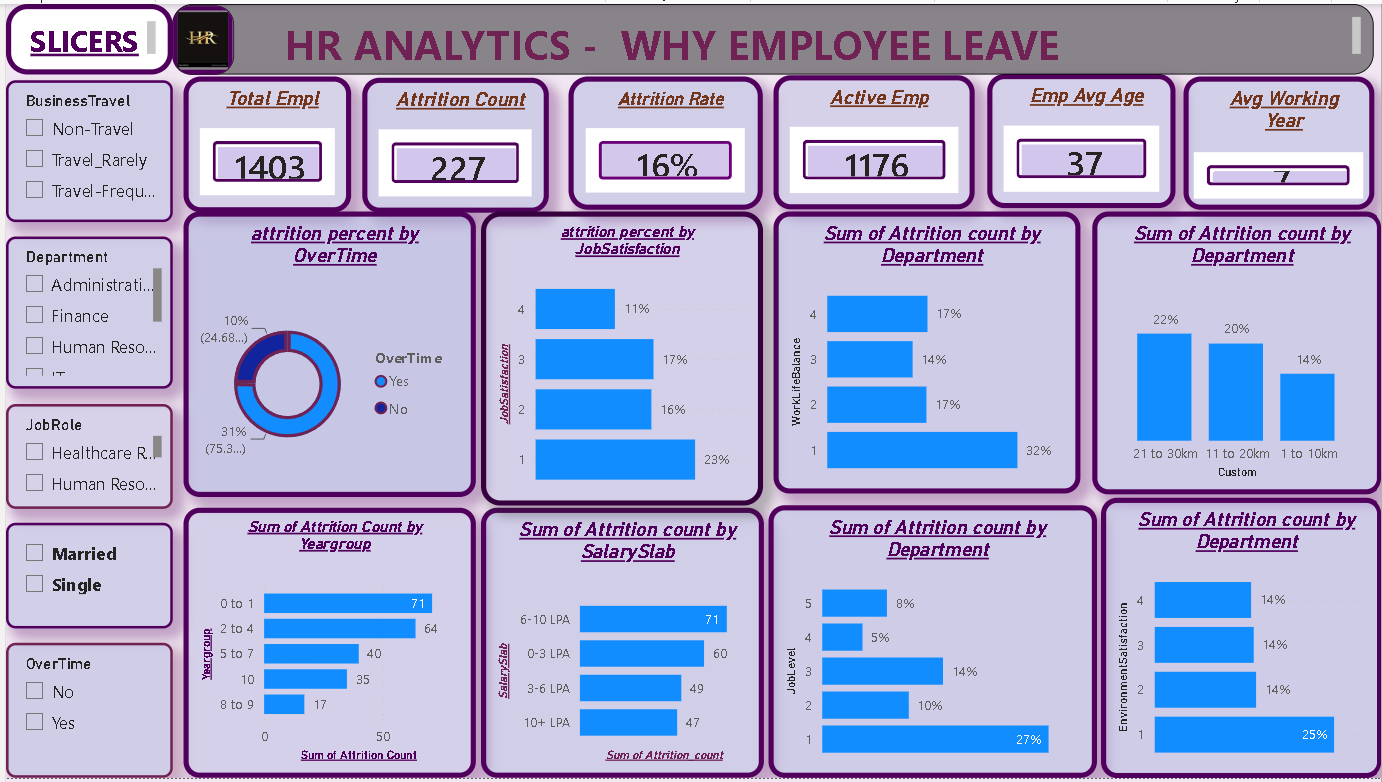

This screenshot's page, from the dashboard's own definition file:
{"tool":"powerbi","page":{"name":"Page 1","canvas":[1280,720],"ordinal":0},"visuals":[{"type":"cardVisual","title":"Total Empl","fields":{"Data":["HR_Analytics-4.Total_Employee"]},"box":[164.7,67.1,156.2,126.2],"z":0},{"type":"cardVisual","title":"Attrition Count","fields":{"Data":["HR_Analytics-4.Number of Atrrition"]},"box":[331.4,68.6,173.3,125.6],"z":1000},{"type":"cardVisual","title":"Active Emp","fields":{"Data":["HR_Analytics-4.Active employee"]},"box":[714,66.3,187.1,124.7],"z":2000},{"type":"cardVisual","title":"Emp Avg Age","fields":{"Data":["Avg(HR_Analytics-4.Age)"]},"box":[912.8,65.1,175.3,124.7],"z":3000},{"type":"cardVisual","title":"Avg  Working Year","fields":{"Data":["Avg(HR_Analytics-4.YearsatCompany)"]},"box":[1095.3,67.1,177.3,124.3],"z":4000},{"type":"barChart","title":"Sum of Attrition count by Department","fields":{"Category":["HR_Analytics-4.WorkLifeBalance"],"Y":["HR_Analytics-4.attrition percent"]},"box":[713.7,193.3,285.6,262.2],"z":5000},{"type":"donutChart","fields":{"Category":["HR_Analytics-4.OverTime"],"Y":["HR_Analytics-4.attrition percent"]},"box":[164.7,193.3,272.1,265.9],"z":6000},{"type":"barChart","title":"Sum of Attrition count by SalarySlab","fields":{"Category":["HR_Analytics-4.SalarySlab"],"Y":["Sum(HR_Analytics-4.Attrition_count)"]},"box":[441.5,469,263.4,251.1],"z":7000},{"type":"barChart","fields":{"Category":["HR_Analytics-4.JobSatisfaction"],"Y":["HR_Analytics-4.attrition percent"]},"box":[441.9,193,262.8,273.3],"z":8000},{"type":"slicer","fields":{"Values":["HR_Analytics-4.MaritalStatus"]},"box":[0,482.6,155.1,98.5],"z":9000},{"type":"slicer","fields":{"Values":["HR_Analytics-4.BusinessTravel"]},"box":[0,71.4,155.1,131.7],"z":10000},{"type":"textbox","box":[155.1,0,1117.8,65.2],"z":11000},{"type":"image","box":[155.1,1.2,57.5,65],"z":12000},{"type":"slicer","fields":{"Values":["HR_Analytics-4.OverTime"]},"box":[0,594.6,155.1,125.6],"z":13000},{"type":"slicer","fields":{"Values":["HR_Analytics-4.JobRole"]},"box":[0,371.8,155.1,97.2],"z":14000},{"type":"textbox","box":[0,0,155.1,65.2],"z":15000},{"type":"slicer","fields":{"Values":["HR_Analytics-4.Department"]},"box":[0,216.7,155.1,141.6],"z":16000},{"type":"cardVisual","title":"Attrition  Rate","fields":{"Data":["HR_Analytics-4.attrition percent"]},"box":[523.3,67.4,181,124.3],"z":17000},{"type":"clusteredBarChart","fields":{"Y":["Sum(HR_Analytics-4.Attrition Count)"],"Category":["HR_Analytics-4.Yeargroup"]},"box":[165,469,272.1,251.1],"z":18000},{"type":"barChart","title":"Sum of Attrition count by Department","fields":{"Category":["HR_Analytics-4.JobLevel"],"Y":["HR_Analytics-4.attrition percent"]},"box":[709.5,466.6,305.3,253.6],"z":19000},{"type":"columnChart","title":"Sum of Attrition count by Department","fields":{"Y":["HR_Analytics-4.attrition percent"],"Category":["HR_Analytics-4.Custom"]},"box":[1010.4,193.3,269.6,263.4],"z":20000},{"type":"barChart","title":"Sum of Attrition count by Department","fields":{"Category":["HR_Analytics-4.EnvironmentSatisfaction"],"Y":["HR_Analytics-4.attrition percent"]},"box":[1018.6,459.3,261.6,260.5],"z":21000}]}

Visuals, with their boxes in screenshot pixels (x1, y1, x2, y2), scaled from the page's 1280x720 canvas onto the 1382x782 screenshot:
"Total Empl" cardVisual: {"left": 178, "top": 73, "right": 346, "bottom": 210}
"Attrition Count" cardVisual: {"left": 358, "top": 75, "right": 545, "bottom": 211}
"Active Emp" cardVisual: {"left": 771, "top": 72, "right": 973, "bottom": 207}
"Emp Avg Age" cardVisual: {"left": 986, "top": 71, "right": 1175, "bottom": 206}
"Avg  Working Year" cardVisual: {"left": 1183, "top": 73, "right": 1374, "bottom": 208}
"Sum of Attrition count by Department" barChart: {"left": 771, "top": 210, "right": 1079, "bottom": 495}
donutChart - HR_Analytics-4.OverTime x HR_Analytics-4.attrition percent: {"left": 178, "top": 210, "right": 472, "bottom": 499}
"Sum of Attrition count by SalarySlab" barChart: {"left": 477, "top": 509, "right": 761, "bottom": 781}
barChart - HR_Analytics-4.JobSatisfaction x HR_Analytics-4.attrition percent: {"left": 477, "top": 210, "right": 761, "bottom": 506}
slicer - HR_Analytics-4.MaritalStatus: {"left": 0, "top": 524, "right": 167, "bottom": 631}
slicer - HR_Analytics-4.BusinessTravel: {"left": 0, "top": 78, "right": 167, "bottom": 221}
textbox: {"left": 167, "top": 0, "right": 1374, "bottom": 71}
image: {"left": 167, "top": 1, "right": 230, "bottom": 72}
slicer - HR_Analytics-4.OverTime: {"left": 0, "top": 646, "right": 167, "bottom": 781}
slicer - HR_Analytics-4.JobRole: {"left": 0, "top": 404, "right": 167, "bottom": 509}
textbox: {"left": 0, "top": 0, "right": 167, "bottom": 71}
slicer - HR_Analytics-4.Department: {"left": 0, "top": 235, "right": 167, "bottom": 389}
"Attrition  Rate" cardVisual: {"left": 565, "top": 73, "right": 760, "bottom": 208}
clusteredBarChart - Sum(HR_Analytics-4.Attrition Count) x HR_Analytics-4.Yeargroup: {"left": 178, "top": 509, "right": 472, "bottom": 781}
"Sum of Attrition count by Department" barChart: {"left": 766, "top": 507, "right": 1096, "bottom": 781}
"Sum of Attrition count by Department" columnChart: {"left": 1091, "top": 210, "right": 1381, "bottom": 496}
"Sum of Attrition count by Department" barChart: {"left": 1100, "top": 499, "right": 1381, "bottom": 781}
